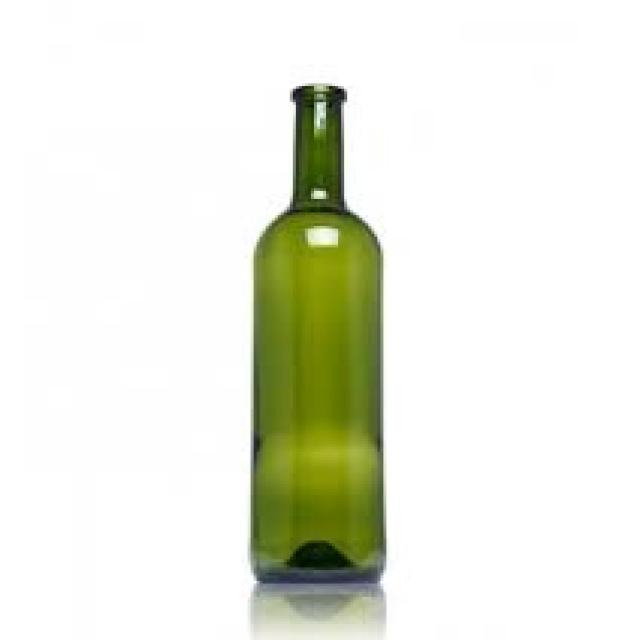glass: (248, 83, 384, 589)
